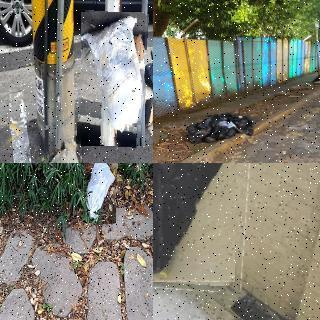Garbage: (153, 163, 237, 284), (79, 11, 147, 147), (83, 163, 116, 223), (187, 122, 210, 143), (143, 49, 153, 96), (203, 115, 226, 127), (233, 117, 250, 129), (313, 74, 320, 83)
